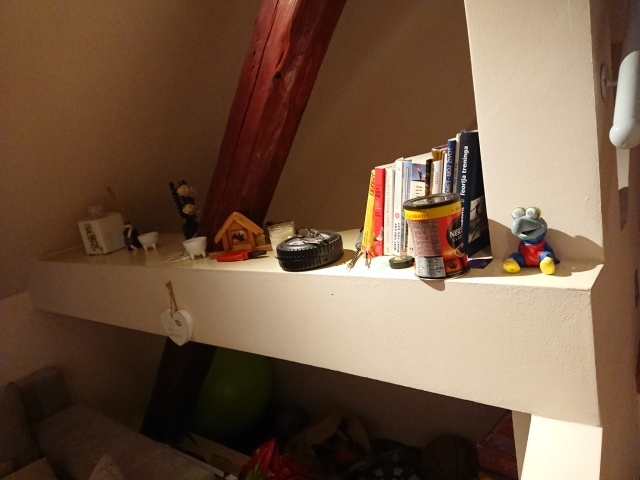Nescafe Classic 225g: (400, 190, 473, 283)
